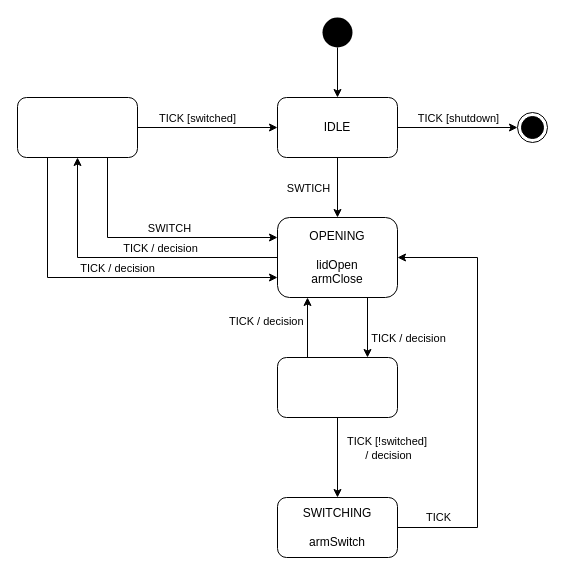
The diagram is 565 pixels wide and 575 high, and some of its shapes have lost their labels. Each missing label, with the box of its shape:
CLOSING lidClose: (16, 96, 138, 158)
PEEKING armPeek: (276, 356, 398, 418)
